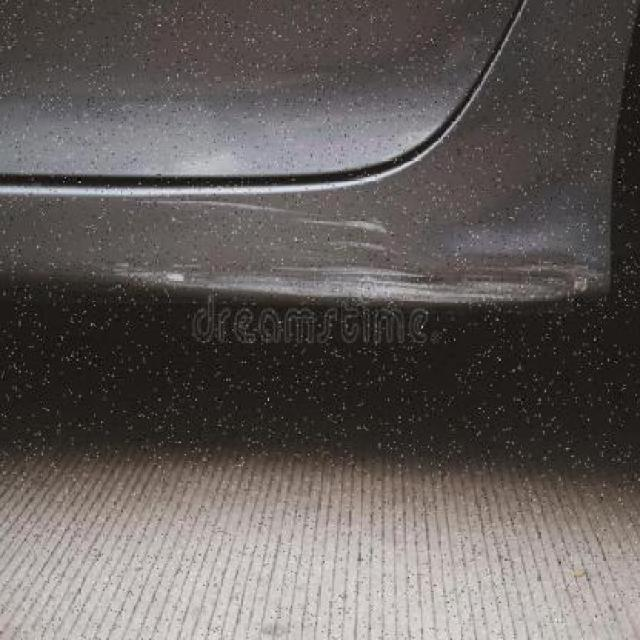RunningBoard-Dent: (1, 166, 625, 327)
